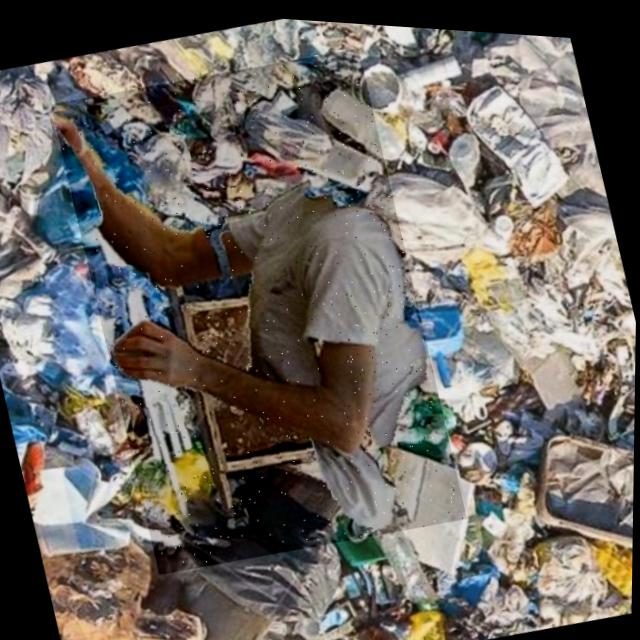Person in Rubble: (44, 27, 473, 588)
